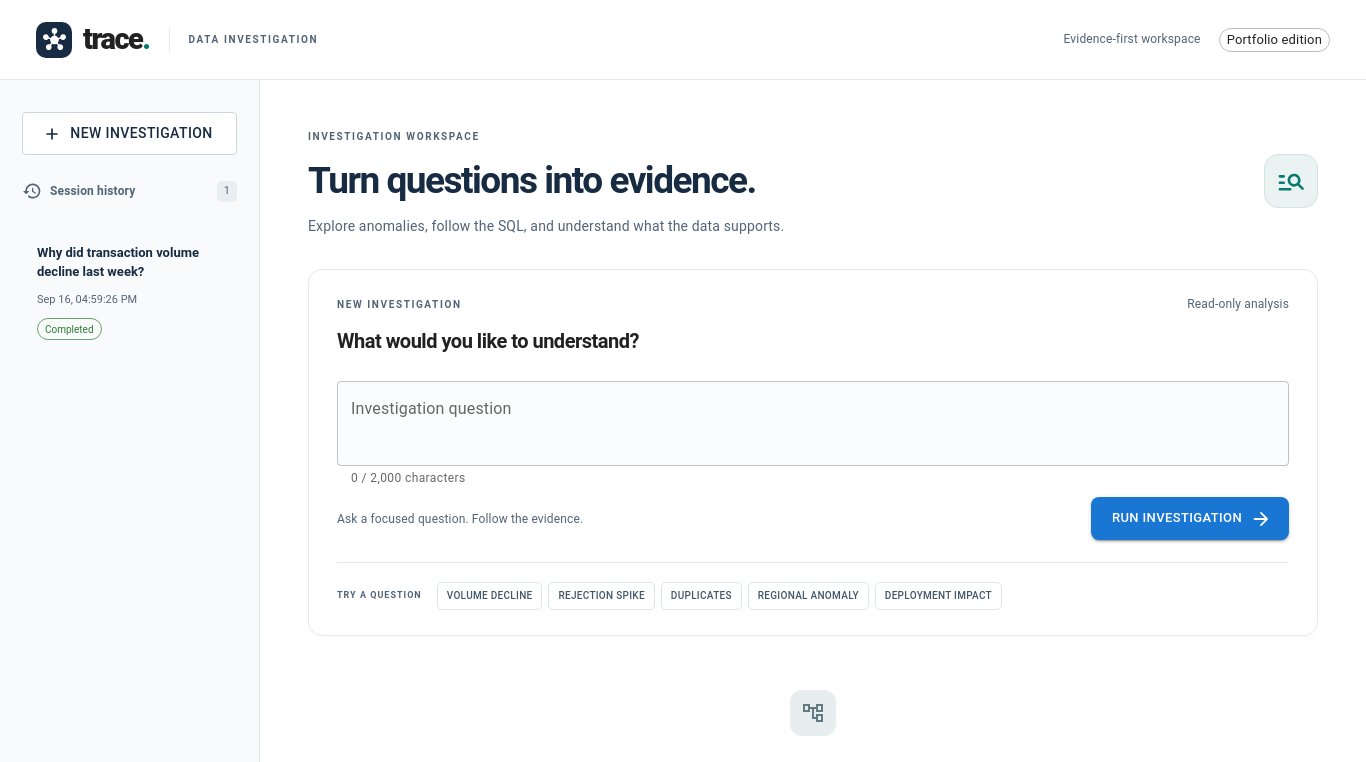
Scenario: loads history metadata after remount and retrieves the selected result
Click the 2nd button. click: (130, 291)
box: [22,228,237,355]
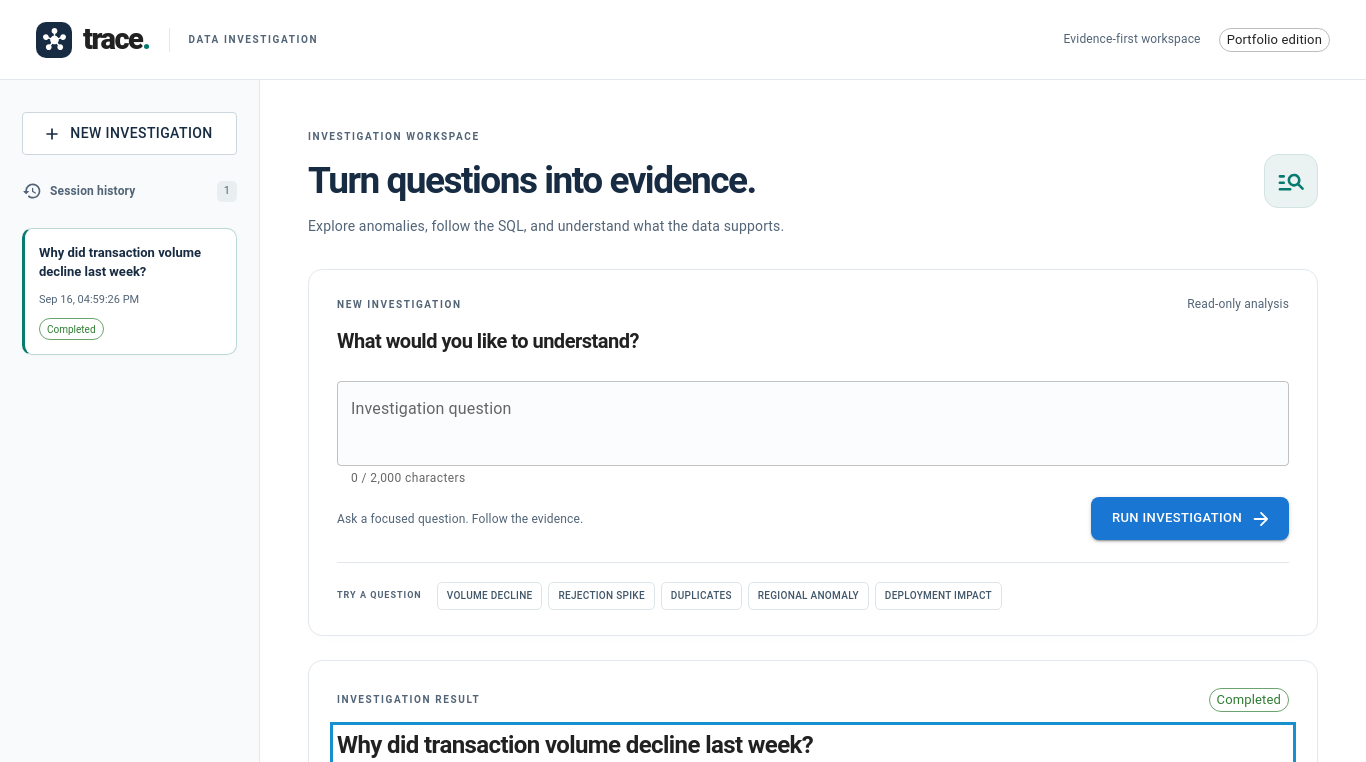
Now the heading "Why did transaction volume decline last week?" is shown, box [337,730,813,758]
